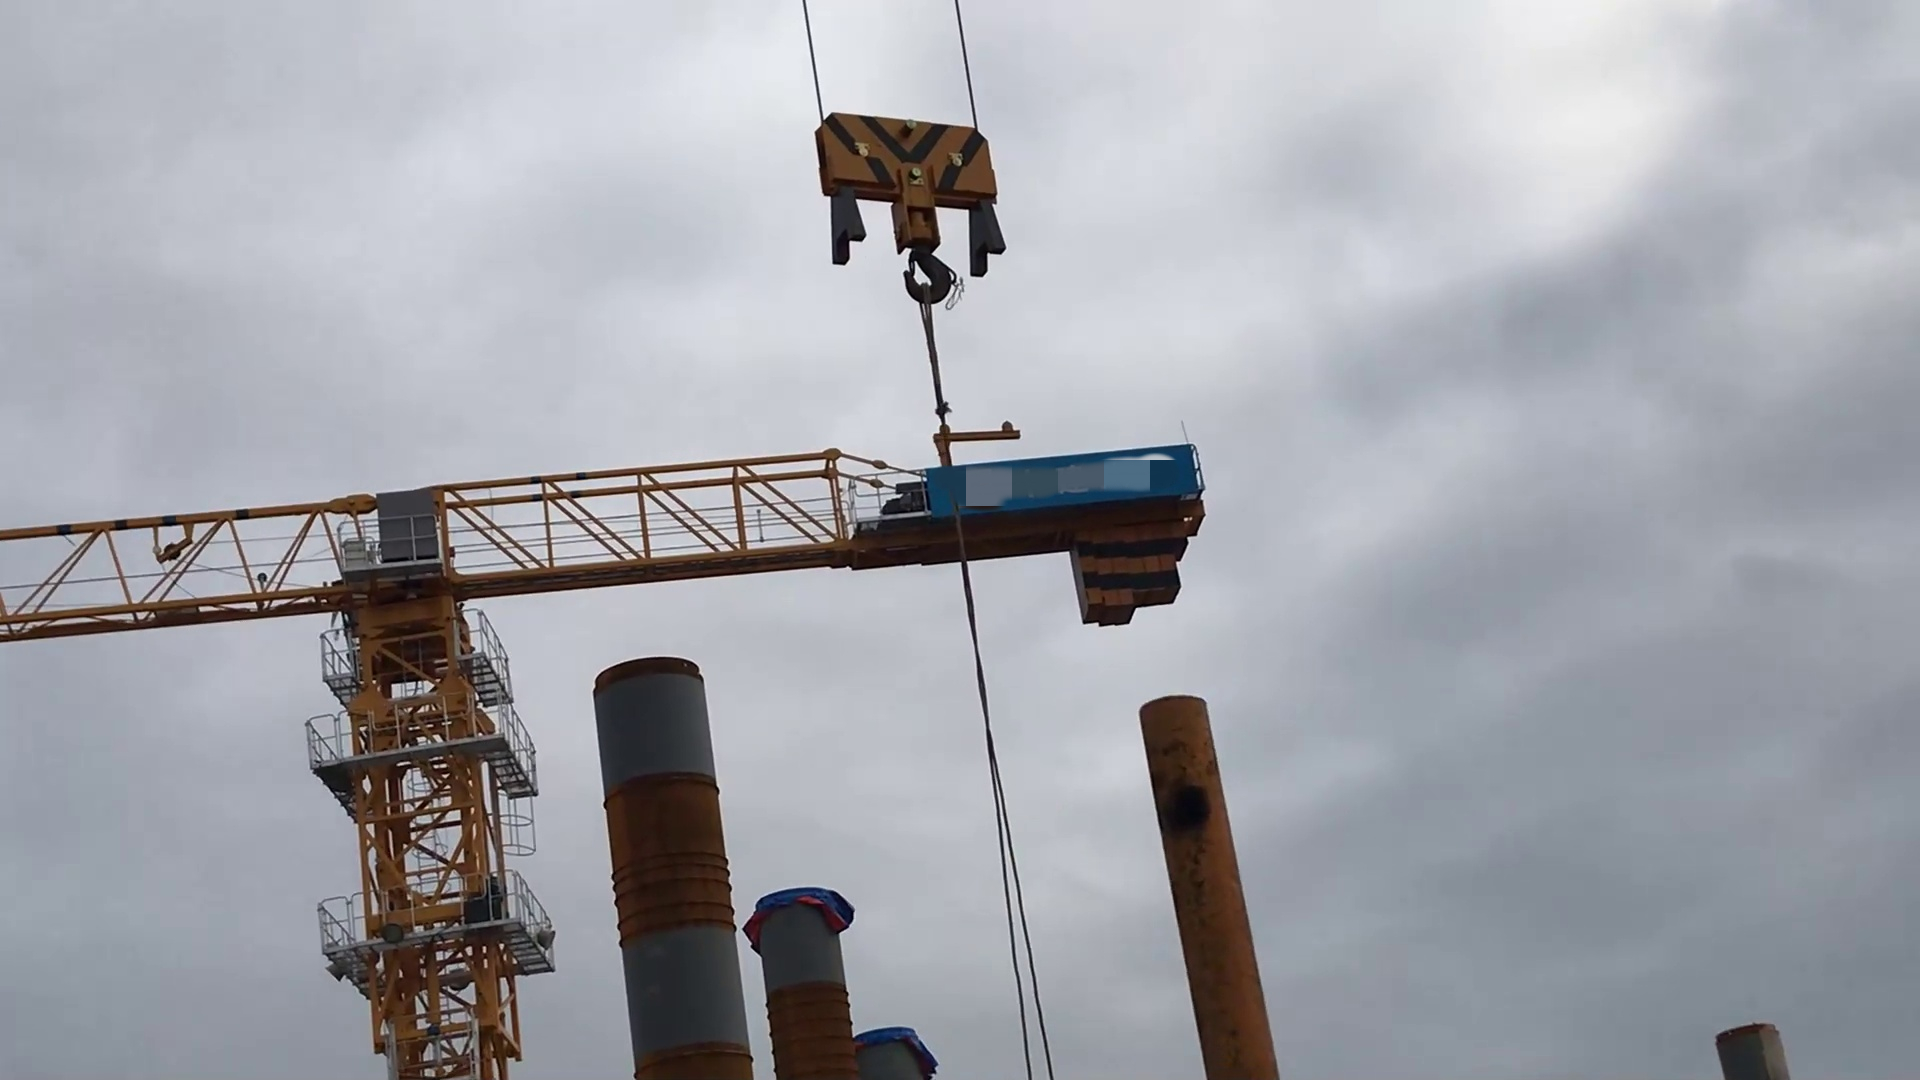hook: (806, 102, 1017, 313)
